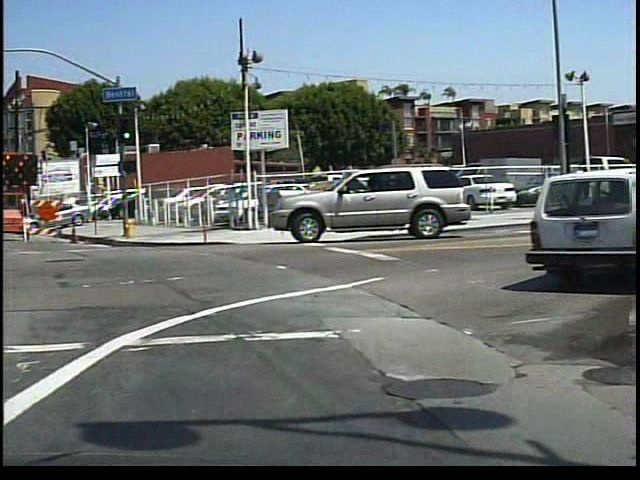person: (575, 162, 595, 206)
